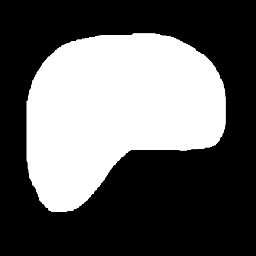mass: (24, 27, 225, 206)
